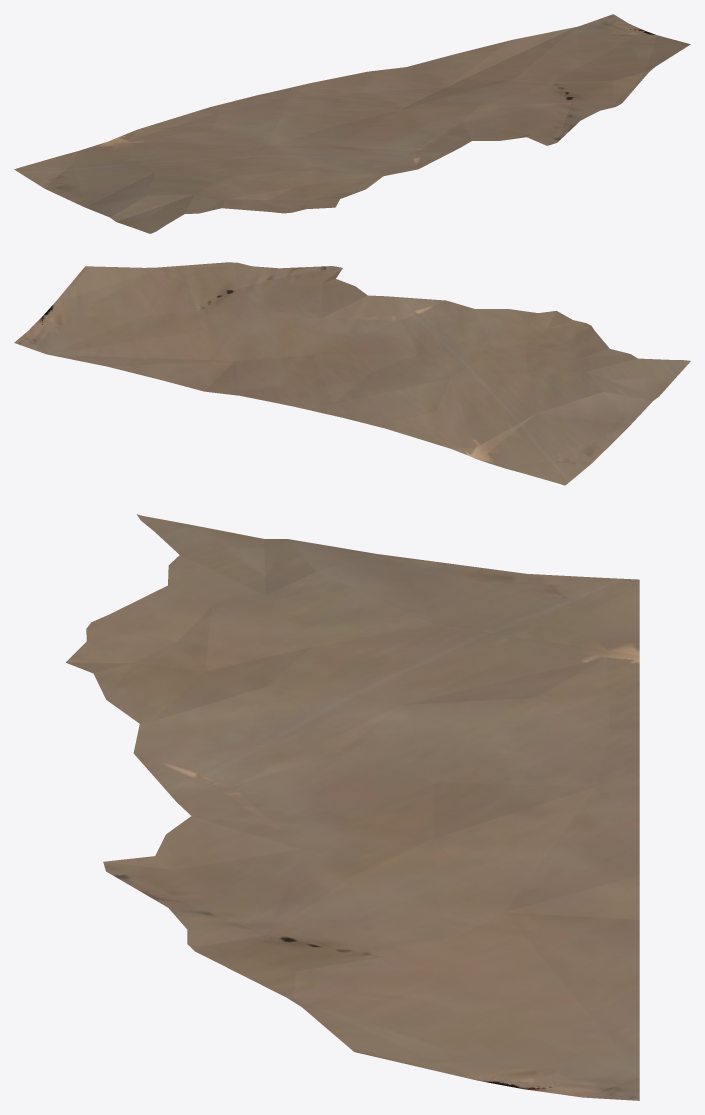
3 renders of one model, top to bottom at view 1: azimuth 30°, elevation 25°; view 2: azimuth 150°, elevation 25°; view 3: azimuth 270°, elevation 25°, orthographic. The views are drawn at different scales.
Bounding box in the file's own units: 2.09 × 0.1186 × 0.9419.
1 material, 1 textured.
